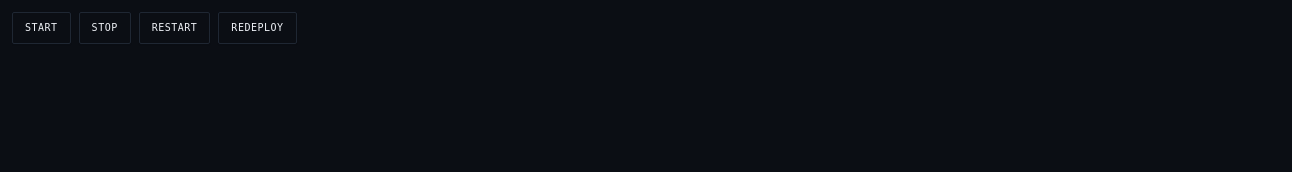
Test case: lifecycle buttons › shows the API refusal, and draws nothing for a Docker container or a database restart-less kind
Click the button with test id "action-start". click: click(41, 28)
box: [12, 12, 71, 44]
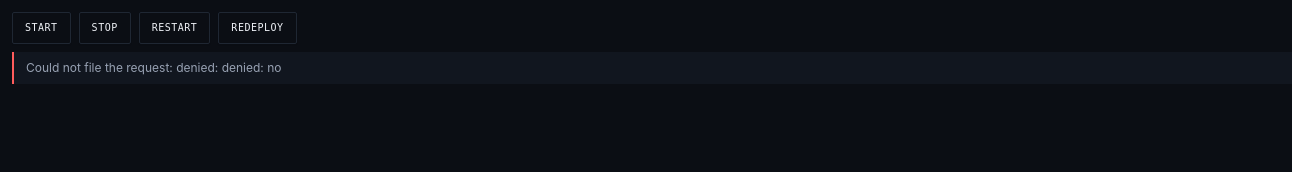
Check: the message with test id "action-error" shows "denied", box [26, 60, 282, 75]
